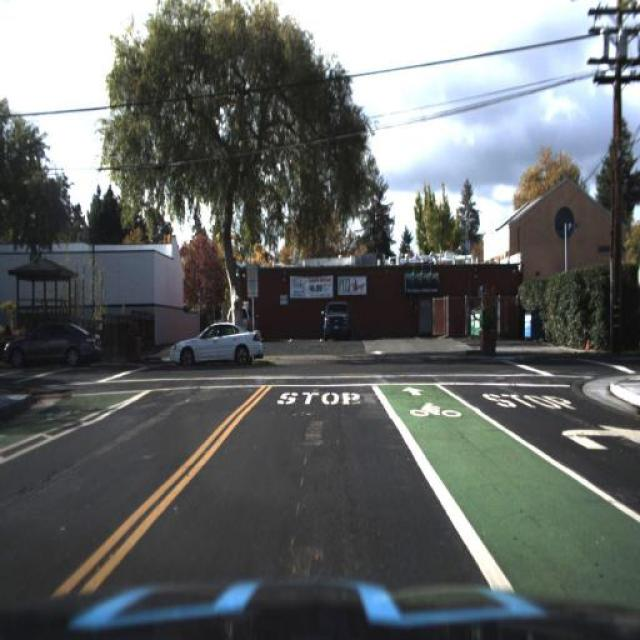car: (0, 312, 110, 383), (163, 313, 269, 382), (316, 295, 356, 341), (223, 303, 255, 331)
